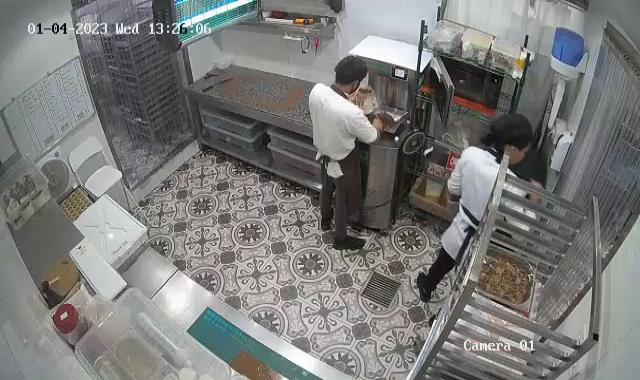no_hairnet: (492, 112, 531, 154), (336, 54, 366, 88)
